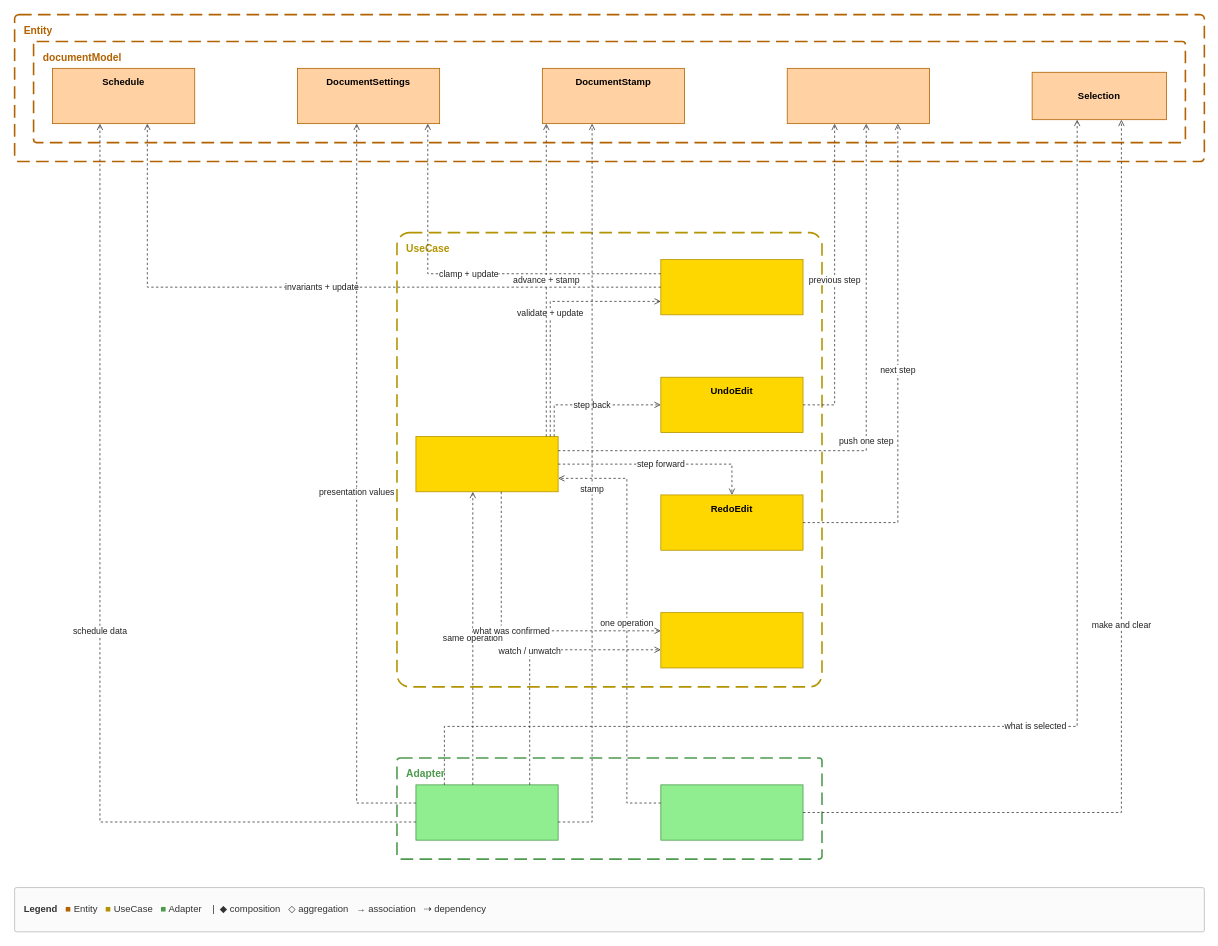
The diagram is 1218 pixels wide and 946 high, and some of its shapes have lost their labels. Here are the shapes that lost their labels. From the top down, the centre of each, then its label:
(x=857, y=96): EditHistory
(x=731, y=287): EditDocument
(x=486, y=464): ApplyDocumentChange
(x=731, y=640): NotifyChangeWatchers
(x=486, y=812): AgentApiEndpoint
(x=731, y=812): InputCommandTranslator
